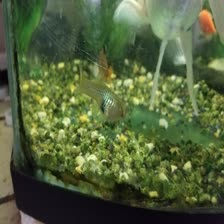Guppy: (71, 66, 135, 134)
Plano: (193, 6, 218, 36)
